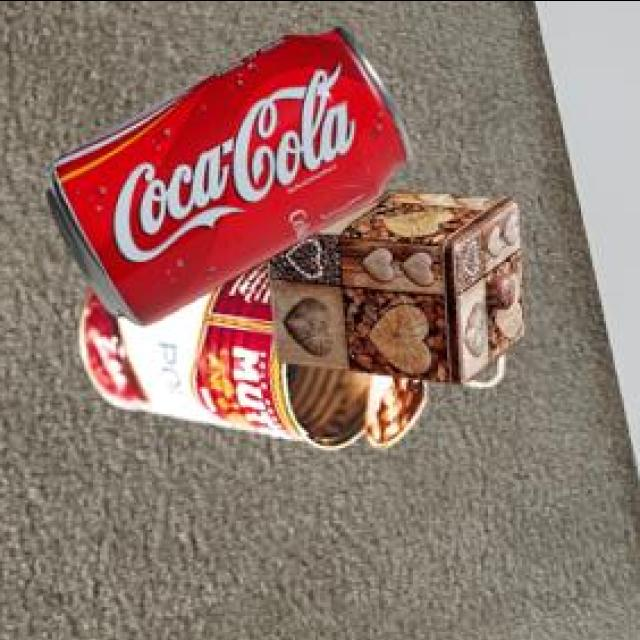logam: (51, 22, 414, 321), (83, 255, 507, 446), (271, 185, 528, 380)
